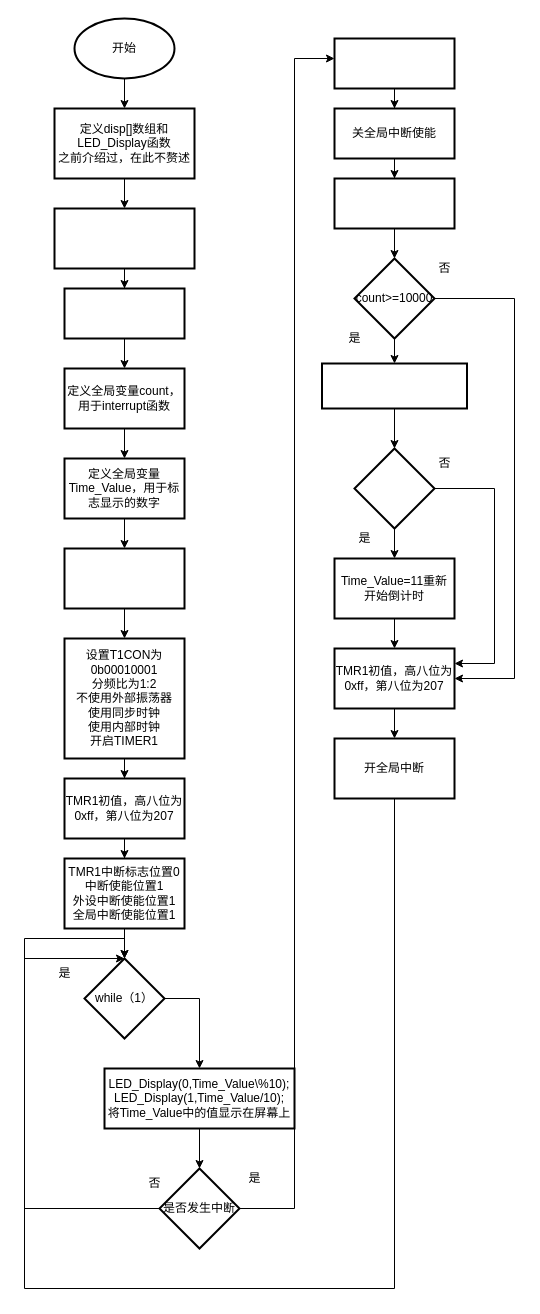
This 540x1314 diagram has some shape labels left out. The shapes that lost their labels are listed below. From the top down, each one's centre as x and y in pixels, then its label:
At pixel 394 63: "进入中断处理函数".
At pixel 394 203: "count加一".
At pixel 124 238: "定义DelayUS 之前介绍过，在此不赘述".
At pixel 124 313: "声明中断处理函数 Time0".
At pixel 394 385: "过了一秒钟，count置零".
At pixel 394 488: "Time_Value=0".
At pixel 124 578: "进入main函数".
